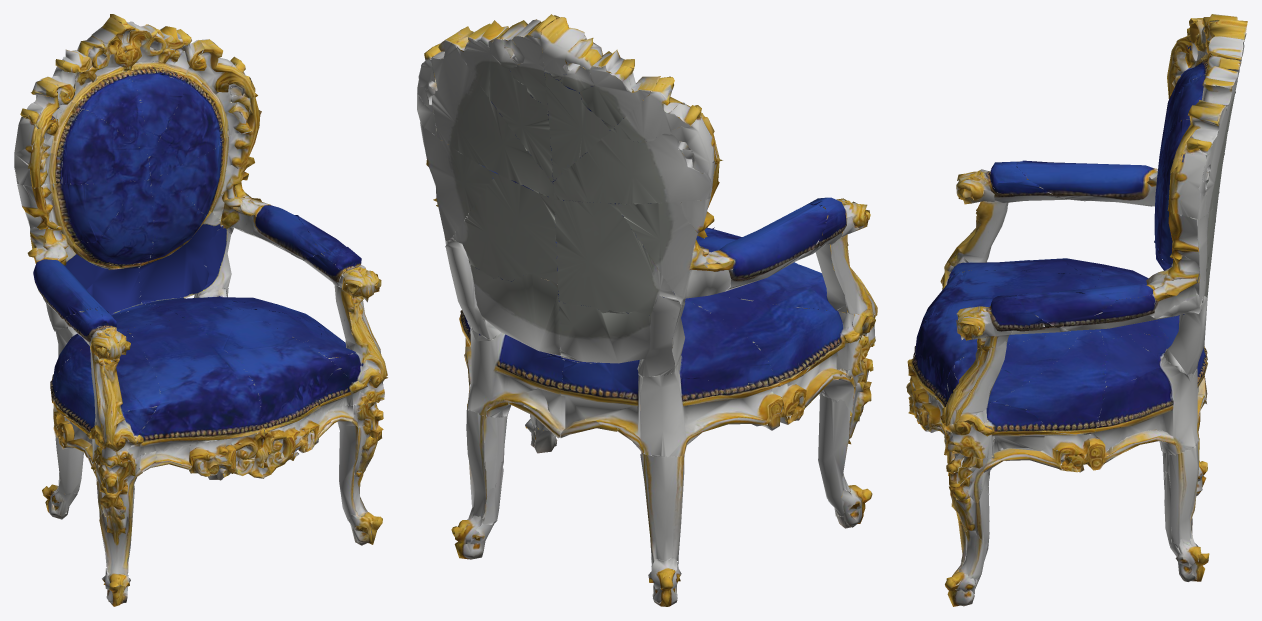
Rendered from KRM_M17_GEN_rococo_armchair_LOD.fbx.
3 renders of one model, left to right at view 1: azimuth 30°, elevation 25°; view 2: azimuth 150°, elevation 25°; view 3: azimuth 270°, elevation 25°, orthographic. The views are drawn at different scales.
Parts seen in each view (by area): view 1: KRM_M17_GEN_rococo_armchair_LOD; view 2: KRM_M17_GEN_rococo_armchair_LOD; view 3: KRM_M17_GEN_rococo_armchair_LOD.
Part boxes in pixels (x1,y1,x2,y2): KRM_M17_GEN_rococo_armchair_LOD: (14,14,387,606); KRM_M17_GEN_rococo_armchair_LOD: (417,14,877,606); KRM_M17_GEN_rococo_armchair_LOD: (906,14,1247,606).
Bounding box in the file's own units: 71.79 × 112 × 66.75.
1 material, 1 textured.
